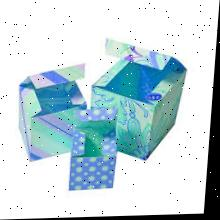cube: (15, 82, 88, 162), (71, 133, 120, 190)
